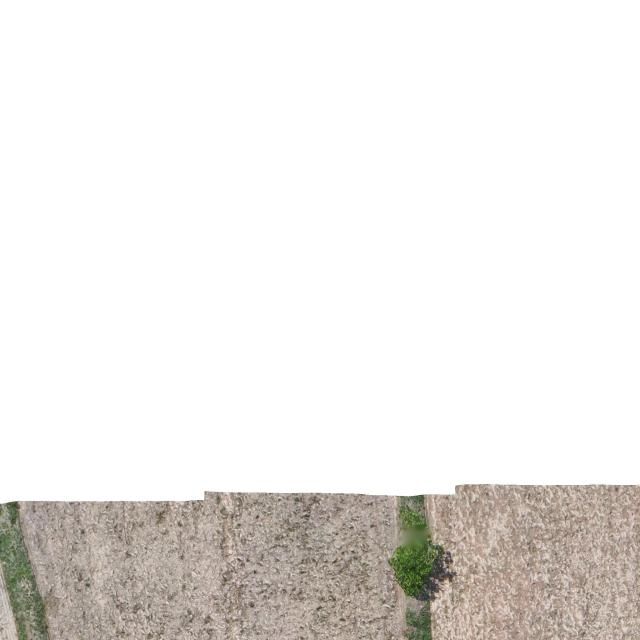Tree: (387, 540, 444, 601)
